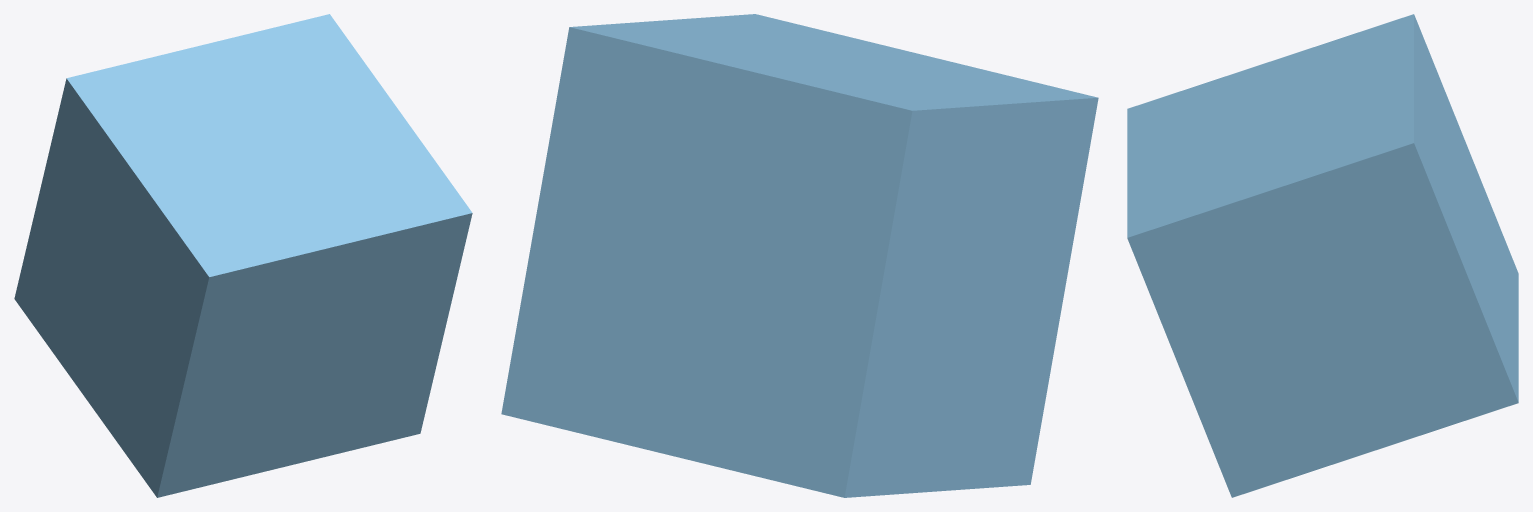
The model's file is morph.glb.
The picture shows the model from 3 angles, left to right: view 1: azimuth 30°, elevation 25°; view 2: azimuth 150°, elevation 25°; view 3: azimuth 270°, elevation 25°; orthographic projection. The views are drawn at different scales.
Parts seen in each view (by area): view 1: Blob; view 2: Blob; view 3: Blob.
Boxes of the visible parts, box(x1,y1,x2,y2) form: Blob: box(14, 14, 472, 497); Blob: box(501, 14, 1098, 497); Blob: box(1127, 14, 1518, 497).
Size of the model in its own units: 1 by 1.28 by 1.28.
